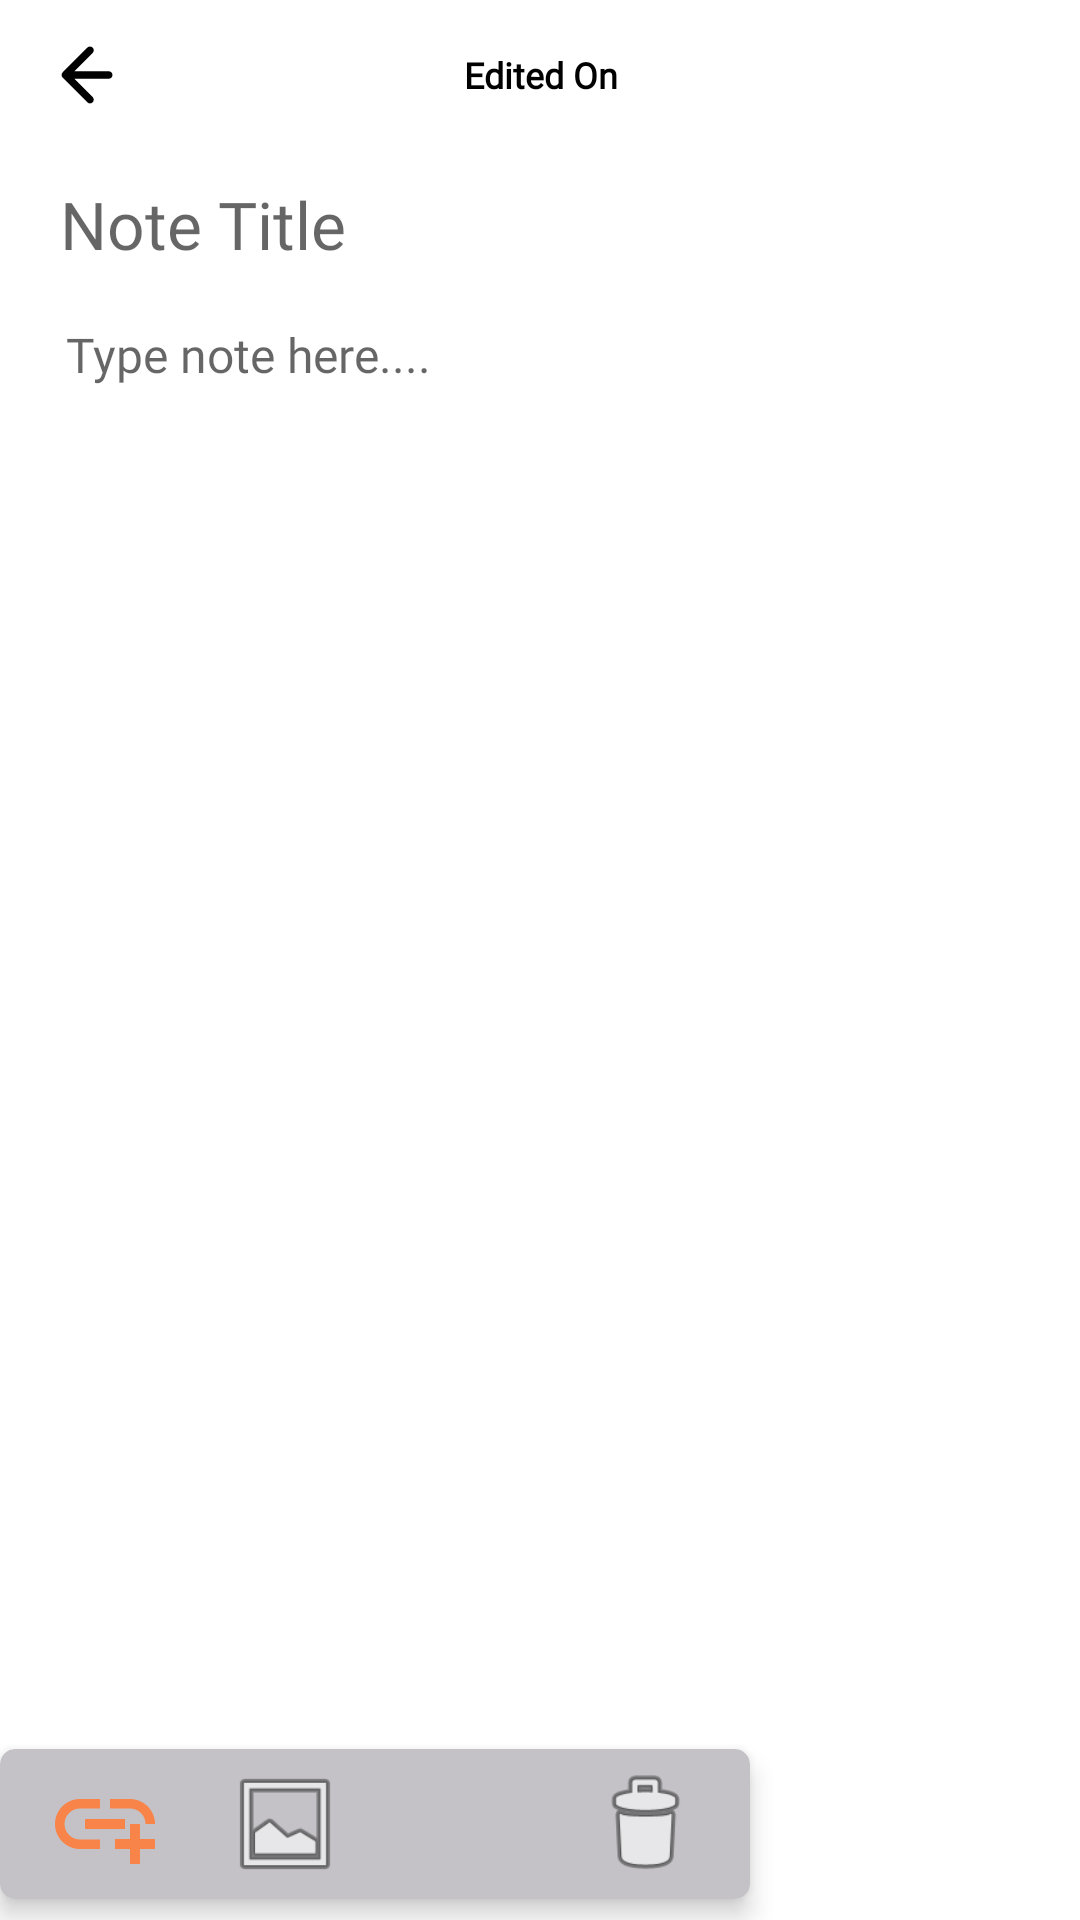

Named icons in this screenshot (1080x1920) and their centers, point (x, y):
add link: point (105, 1831)
arrow back: point (87, 75)
delete: point (645, 1822)
gallery: point (285, 1824)
